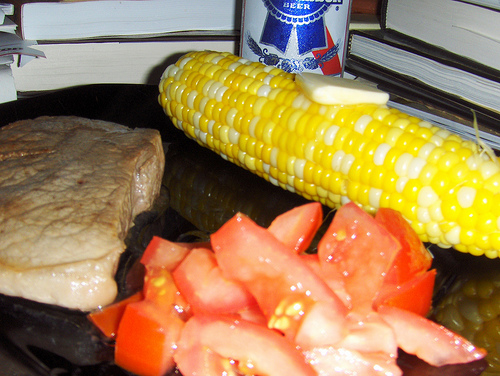corn: (159, 48, 499, 259)
